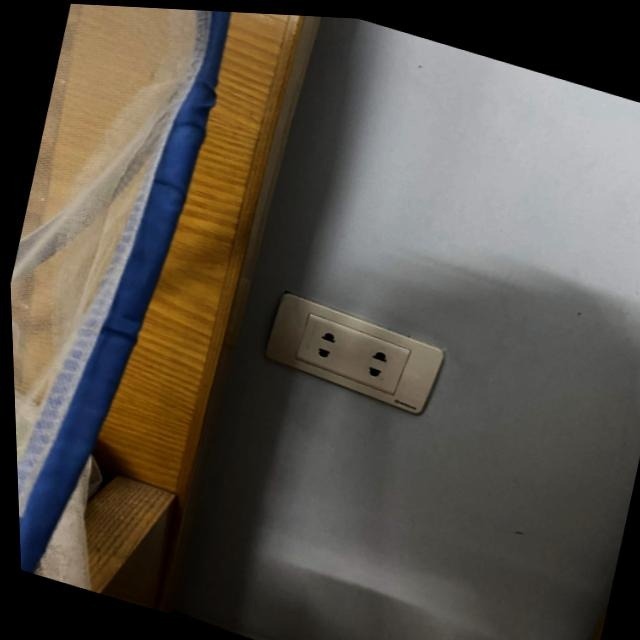outlet: (257, 287, 450, 421)
